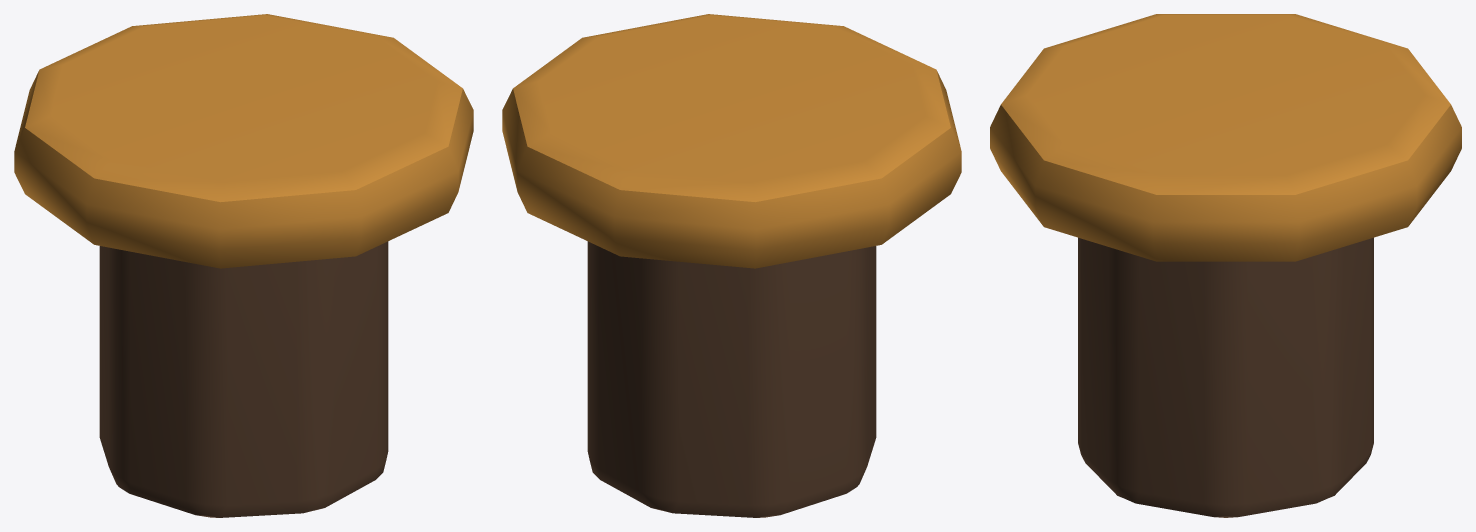
Rendered from prop_stool.glb.
3 views of the same model, side by side, from view 1: azimuth 30°, elevation 25°; view 2: azimuth 150°, elevation 25°; view 3: azimuth 270°, elevation 25° (orthographic).
Visible parts, largest first — view 1: stool_top, stool_leg; view 2: stool_top, stool_leg; view 3: stool_top, stool_leg.
Boxes of the visible parts, x1,y1,x2,y2 form: stool_top: (14, 14, 473, 268); stool_leg: (99, 241, 388, 517); stool_top: (502, 14, 961, 268); stool_leg: (587, 241, 876, 517); stool_top: (990, 14, 1461, 261); stool_leg: (1078, 237, 1373, 517).
Bounding box in the file's own units: 0.3804 × 0.345 × 0.4.
